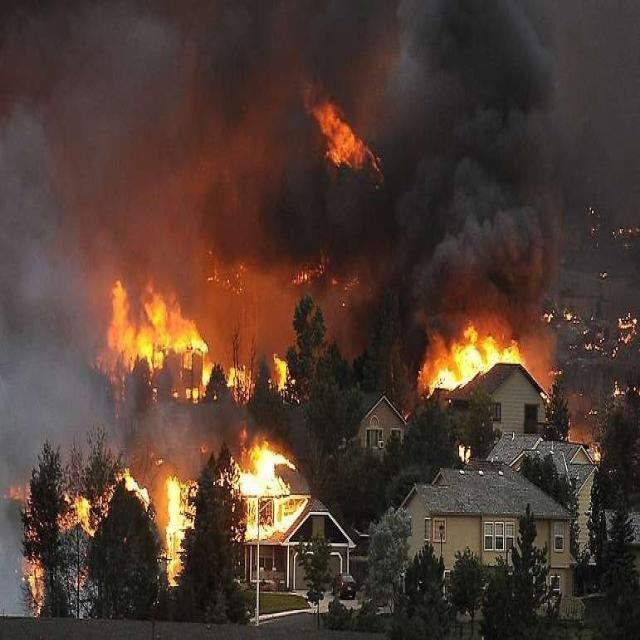Fire: (102, 274, 249, 403), (94, 458, 196, 558), (238, 439, 304, 521), (426, 332, 514, 387), (316, 100, 377, 176), (272, 362, 294, 397)
Smoke: (0, 7, 247, 512), (394, 4, 560, 392), (272, 184, 380, 304)
